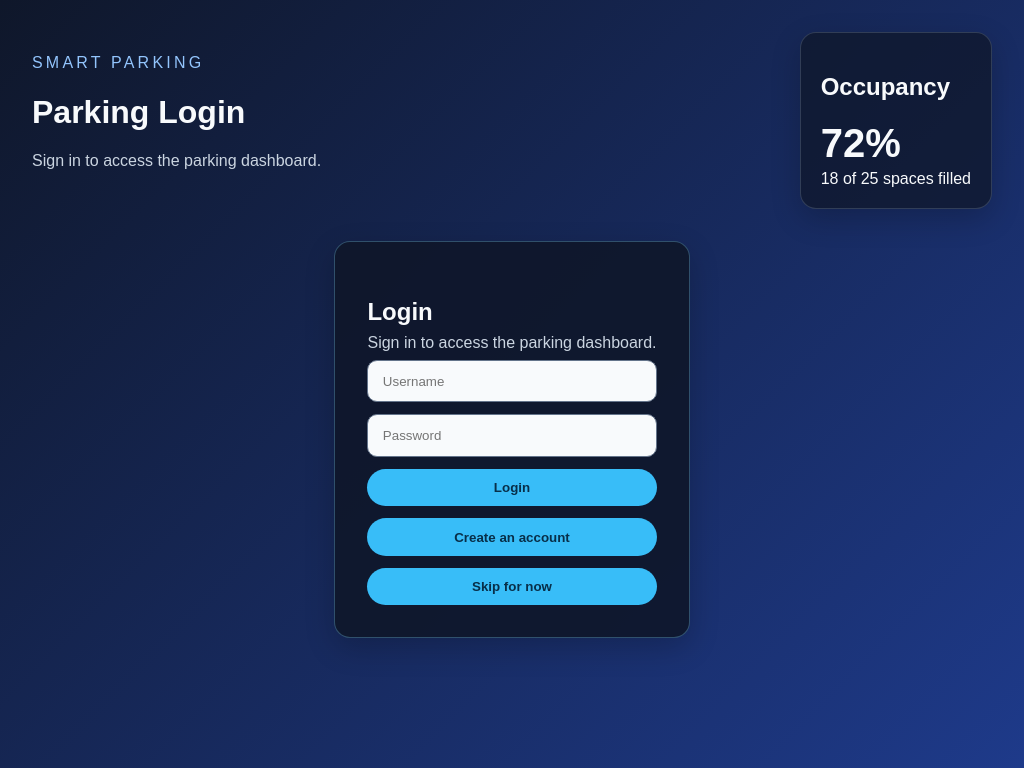
Test: opens the dashboard when guest access is chosen
Step 1. Click the button "Skip for now" → (512, 586), box [368,568,657,605]
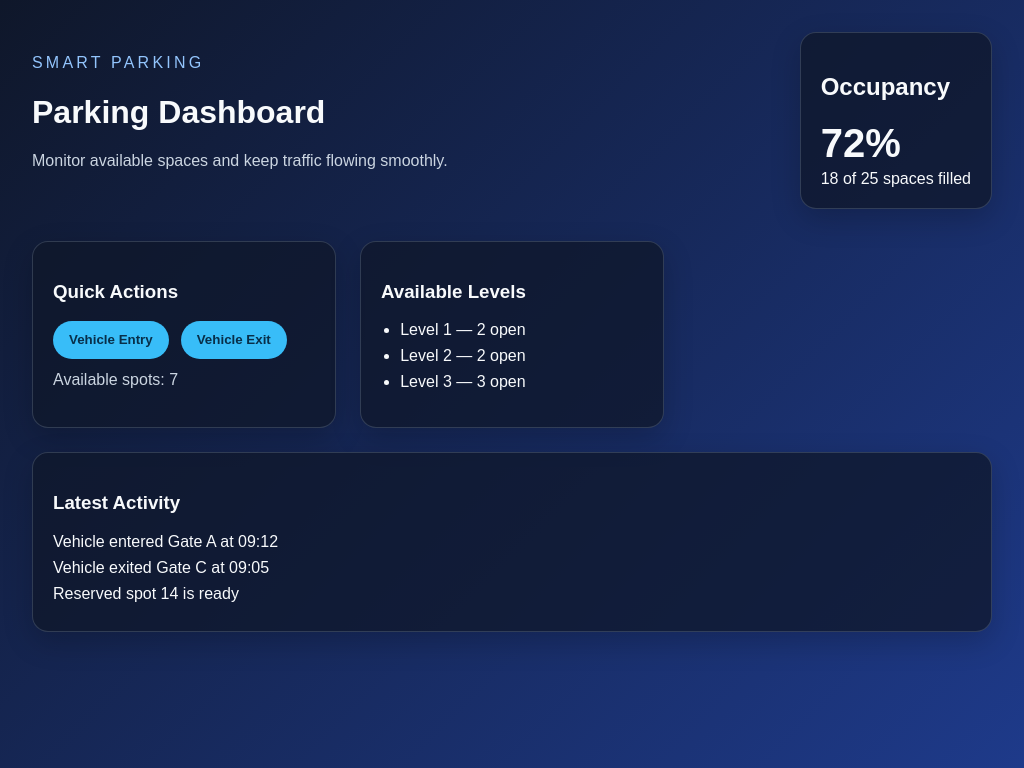
expect the heading "Occupancy" is shown: met, box [821,73,971,101]
expect the heading "Parking Dashboard" is shown: met, box [32,94,325,130]
